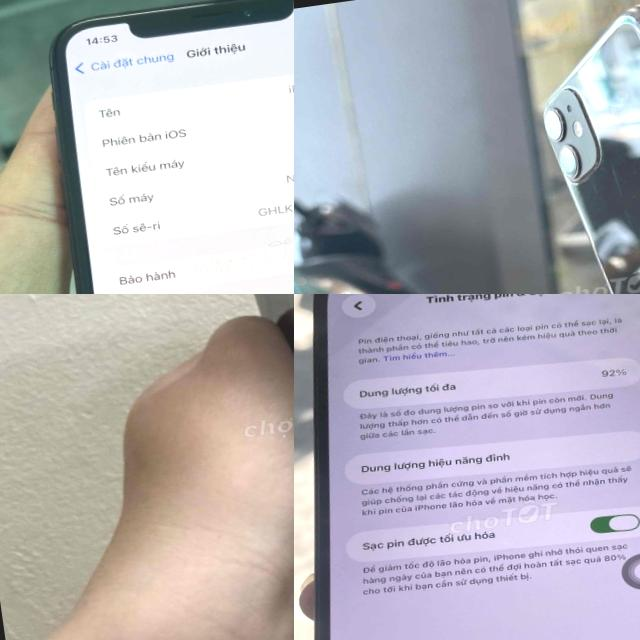gen_11: (514, 0, 640, 294)
gen_14: (294, 294, 640, 640)
gen_15: (200, 294, 294, 640)
gen_x_xs: (7, 0, 294, 294)
